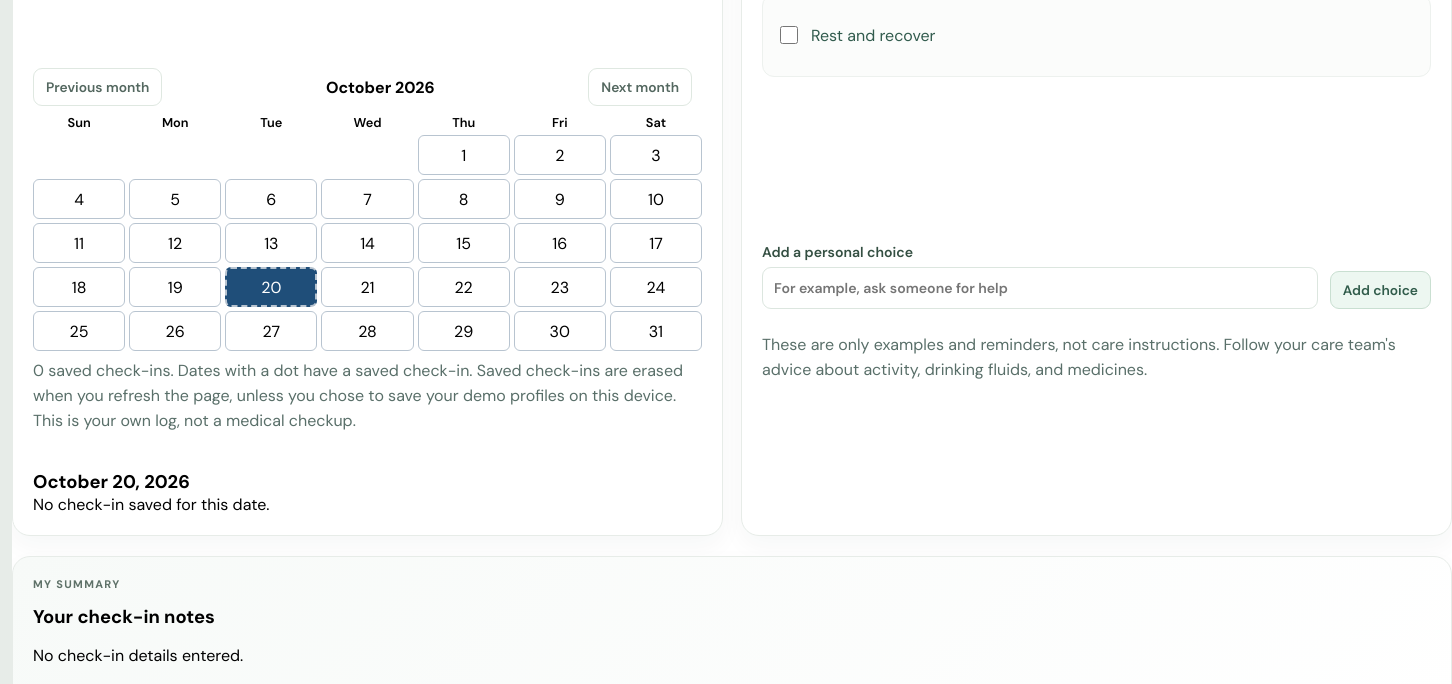
lets the user add, check, and remove personal self-care reminders
The width and height of the screenshot is (1452, 684).
(page scrolled)
In the field labelled "Add a personal choice": coordinates (1040, 288) [762,267,1318,309], type "Call a friend"
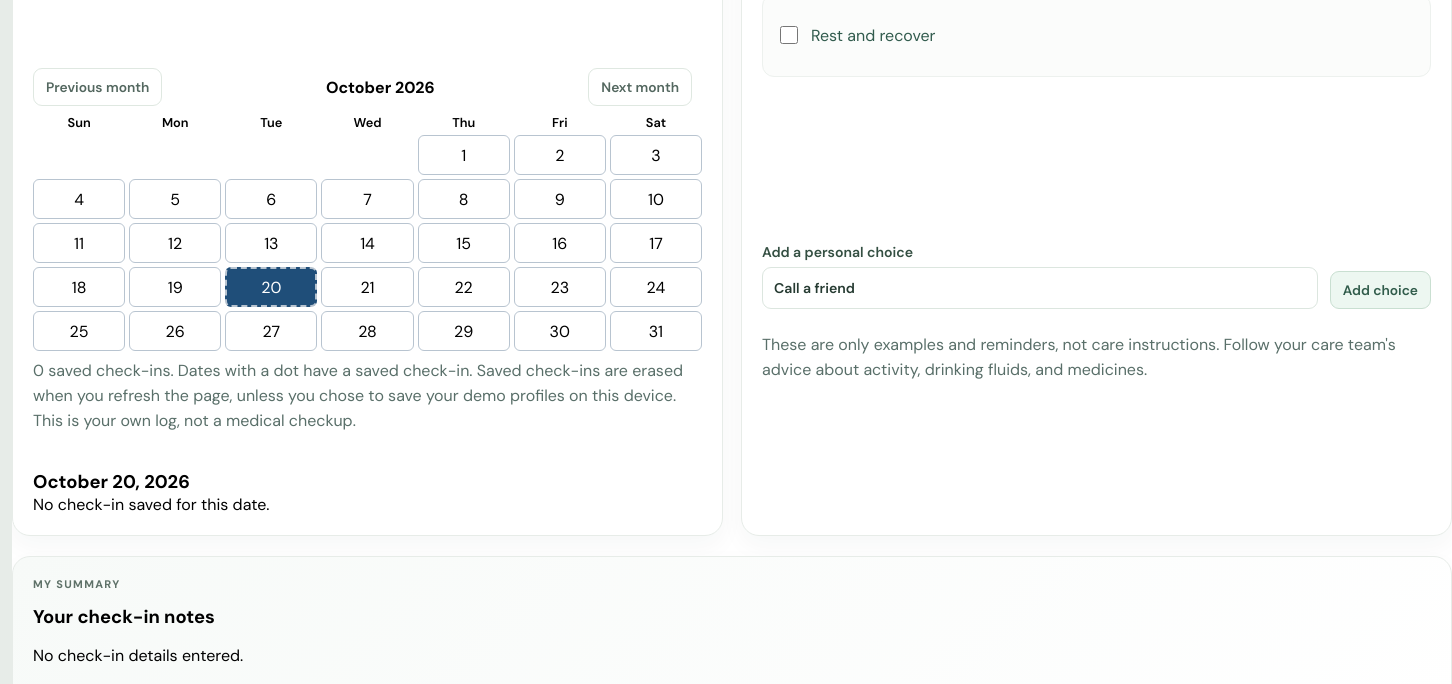
Click the button "Add choice": coordinates (1380, 290) [1330,271,1431,309]
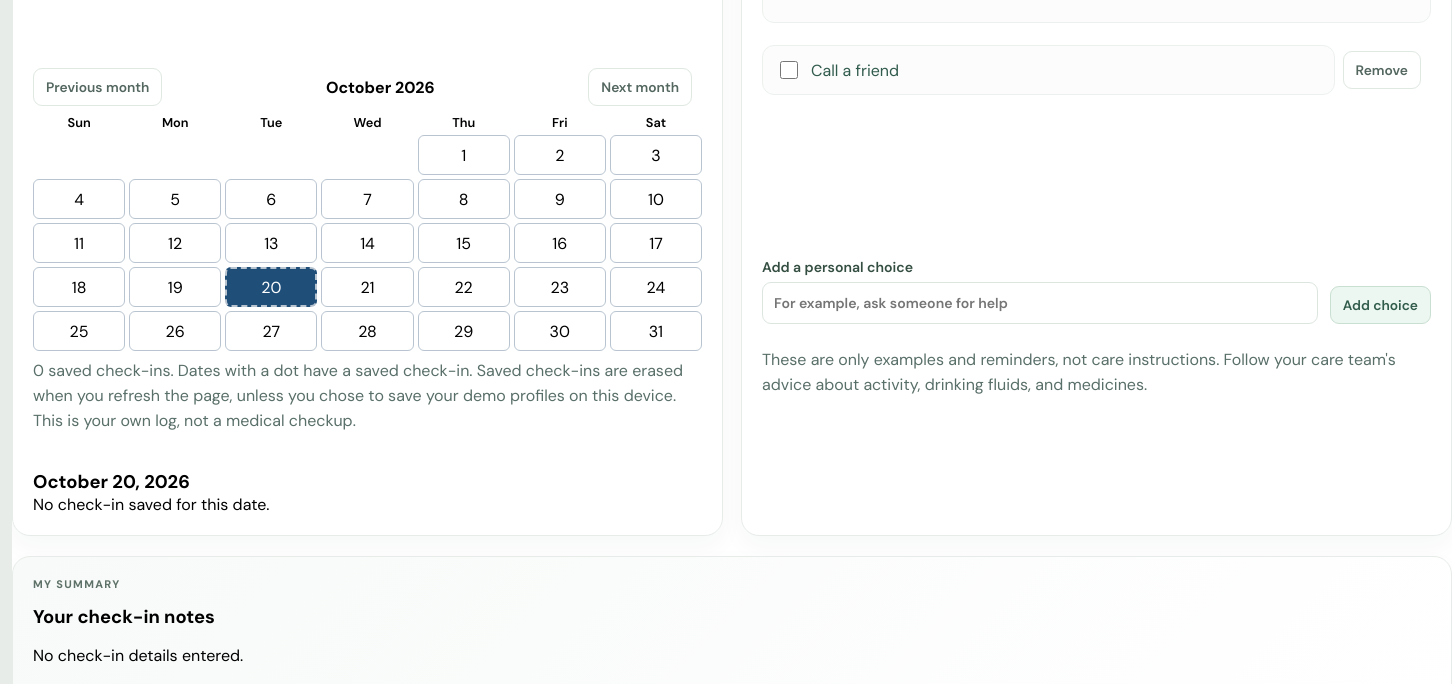
Click the checkbox labelled "Call a friend": coordinates (789, 70) [780,61,798,79]
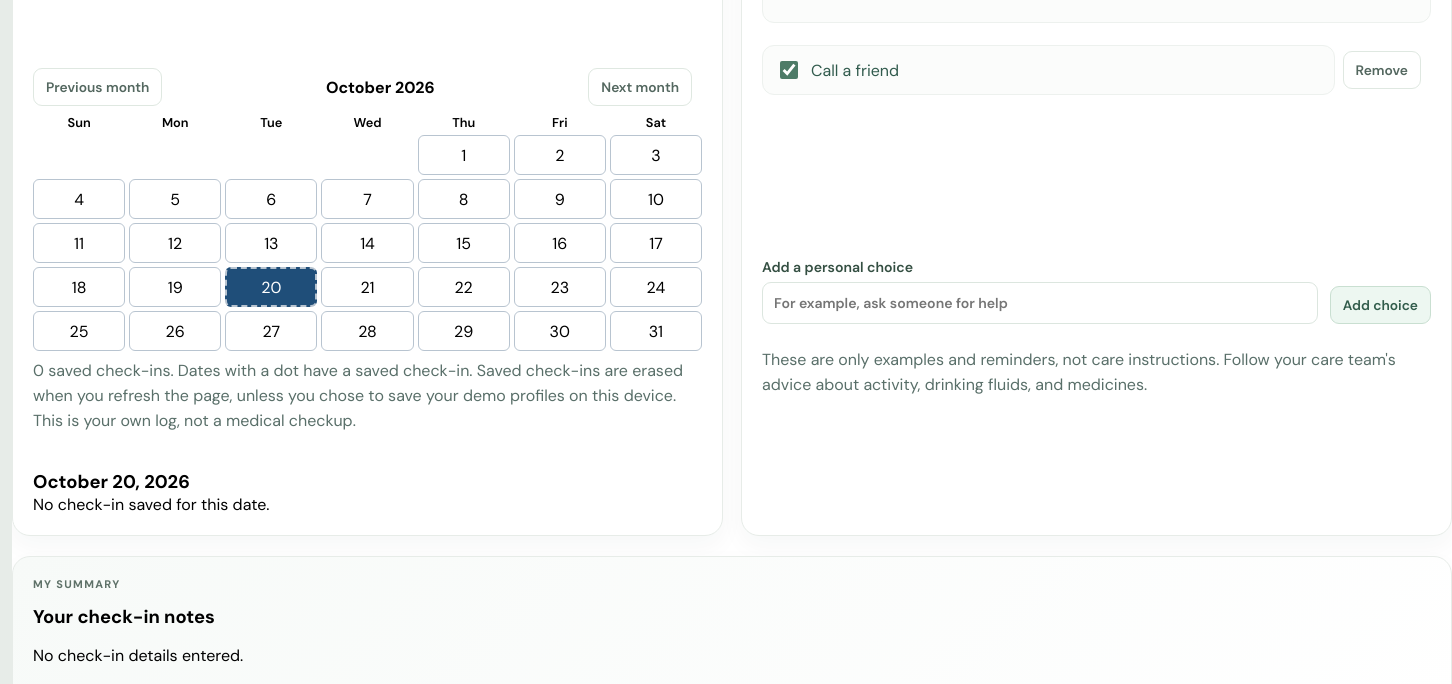
Click the button with aria-label "Remove personal habit Call a friend": coordinates (1382, 70) [1343,51,1421,89]
(page scrolled)
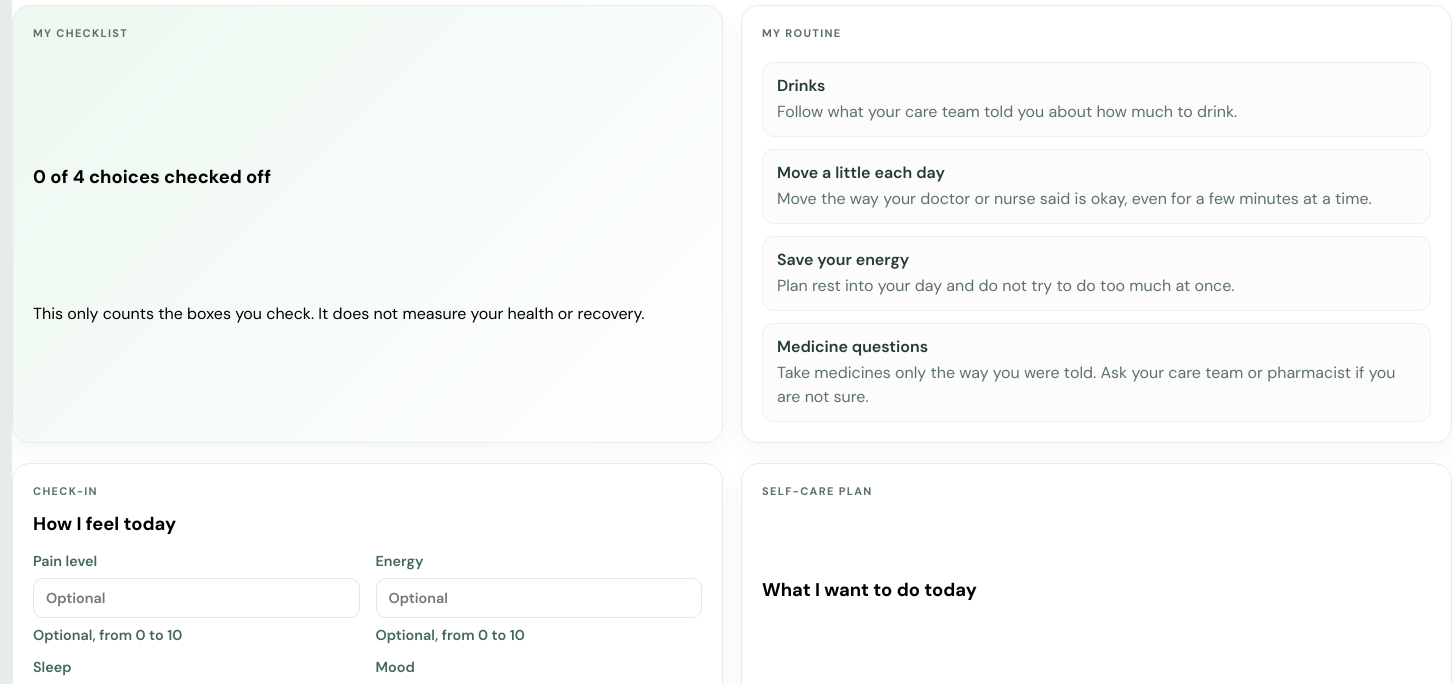
Now the text "Call a friend" is gone
Now the heading "0 of 4 choices checked off" is shown, box [33,165,271,189]
